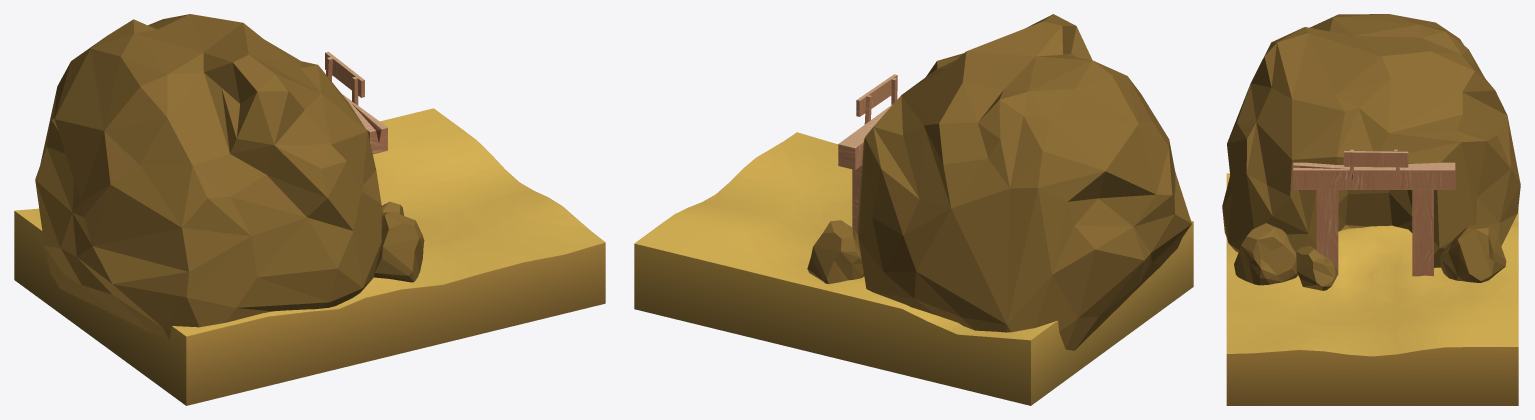
The model's file is Enemie_Exit_Model.fbx.
3 renders of one model, left to right at view 1: azimuth 30°, elevation 25°; view 2: azimuth 150°, elevation 25°; view 3: azimuth 270°, elevation 25°, orthographic. The views are drawn at different scales.
Visible parts, largest first — view 1: Enemies; view 2: Enemies; view 3: Enemies.
Boxes of the visible parts, <box> form: Enemies: <box>14,14,605,405</box>; Enemies: <box>634,14,1193,405</box>; Enemies: <box>1222,14,1520,405</box>.
Bounding box in the file's own units: 37.29 × 22.42 × 24.74.
Materials: 1 (1 with a texture image).
